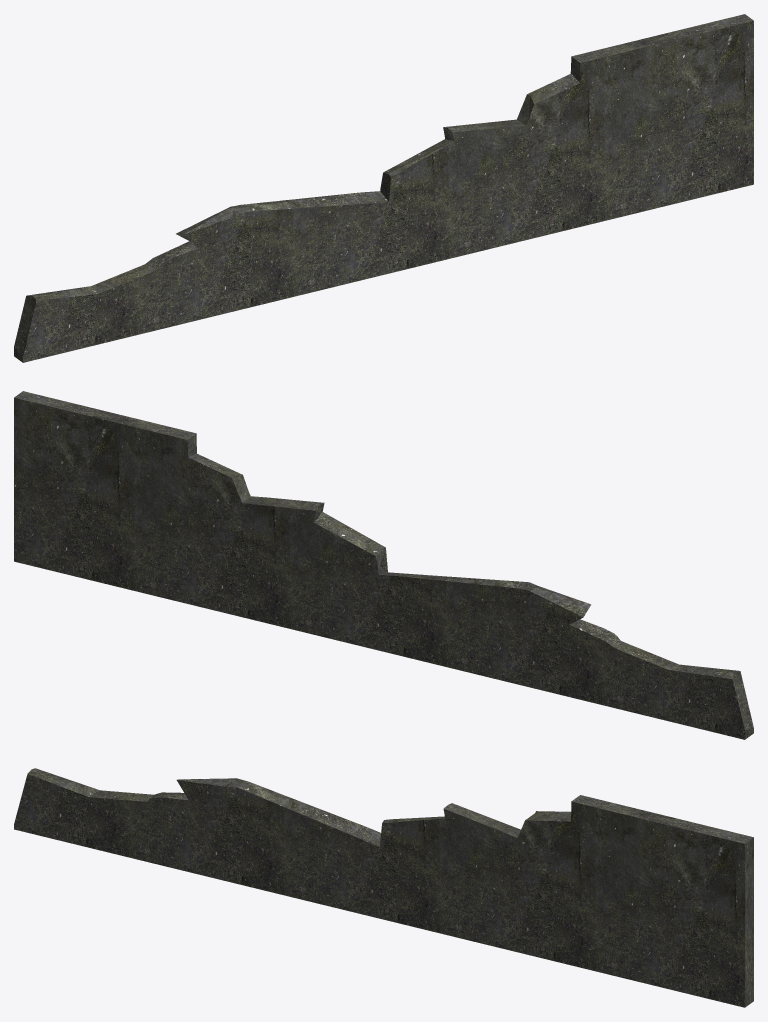
The model's file is tuong 2.fbx.
3 renders of one model, top to bottom at view 1: azimuth 30°, elevation 25°; view 2: azimuth 150°, elevation 25°; view 3: azimuth 330°, elevation 25°, orthographic.
Visible parts, largest first — view 1: Cube.005; view 2: Cube.005; view 3: Cube.005.
Boxes of the visible parts, left/top/right/bottom form: Cube.005: left=14, top=14, right=753, bottom=362; Cube.005: left=14, top=391, right=753, bottom=739; Cube.005: left=14, top=768, right=753, bottom=1007.
Bounding box in the file's own units: 1400 × 300 × 30.
Materials: 1 (1 with a texture image).
